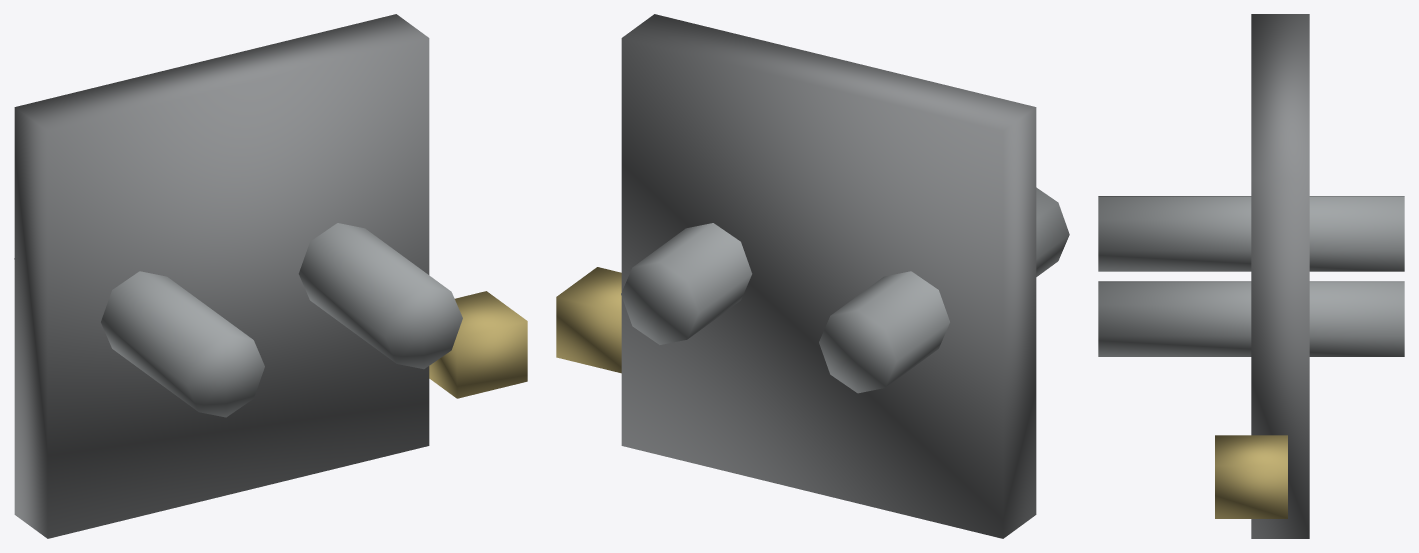
File: pipe_penetration_14.glb
3 renders of one model, left to right at view 1: azimuth 30°, elevation 25°; view 2: azimuth 150°, elevation 25°; view 3: azimuth 270°, elevation 25°, orthographic. The views are drawn at different scales.
Parts seen in each view (by area): view 1: world; view 2: world; view 3: world.
Boxes of the visible parts, x1,y1,x2,y2 form: world: (14,14,527,538); world: (556,14,1069,538); world: (1098,14,1404,538).
Size of the model in its own units: 0.624 by 0.5292 by 0.4074.
